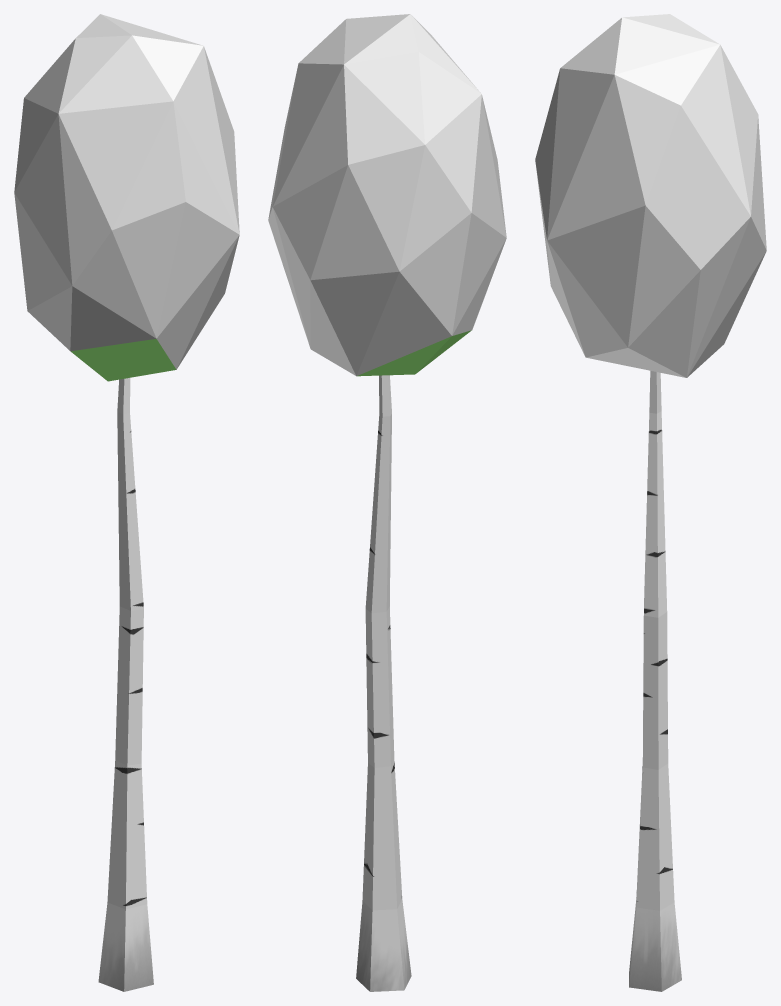
File: Birch_Tree_m_Snow_BT_03.fbx
The picture shows the model from 3 angles, left to right: view 1: azimuth 30°, elevation 25°; view 2: azimuth 150°, elevation 25°; view 3: azimuth 270°, elevation 25°; orthographic projection.
Visible parts, largest first — view 1: Birch_Tree_m_Snow_BT_03; view 2: Birch_Tree_m_Snow_BT_03; view 3: Birch_Tree_m_Snow_BT_03.
Boxes of the visible parts, left/top/right/bottom form: Birch_Tree_m_Snow_BT_03: left=14, top=14, right=239, bottom=991; Birch_Tree_m_Snow_BT_03: left=268, top=14, right=506, bottom=991; Birch_Tree_m_Snow_BT_03: left=535, top=14, right=766, bottom=991.
Bounding box in the file's own units: 141 × 632 × 139.
